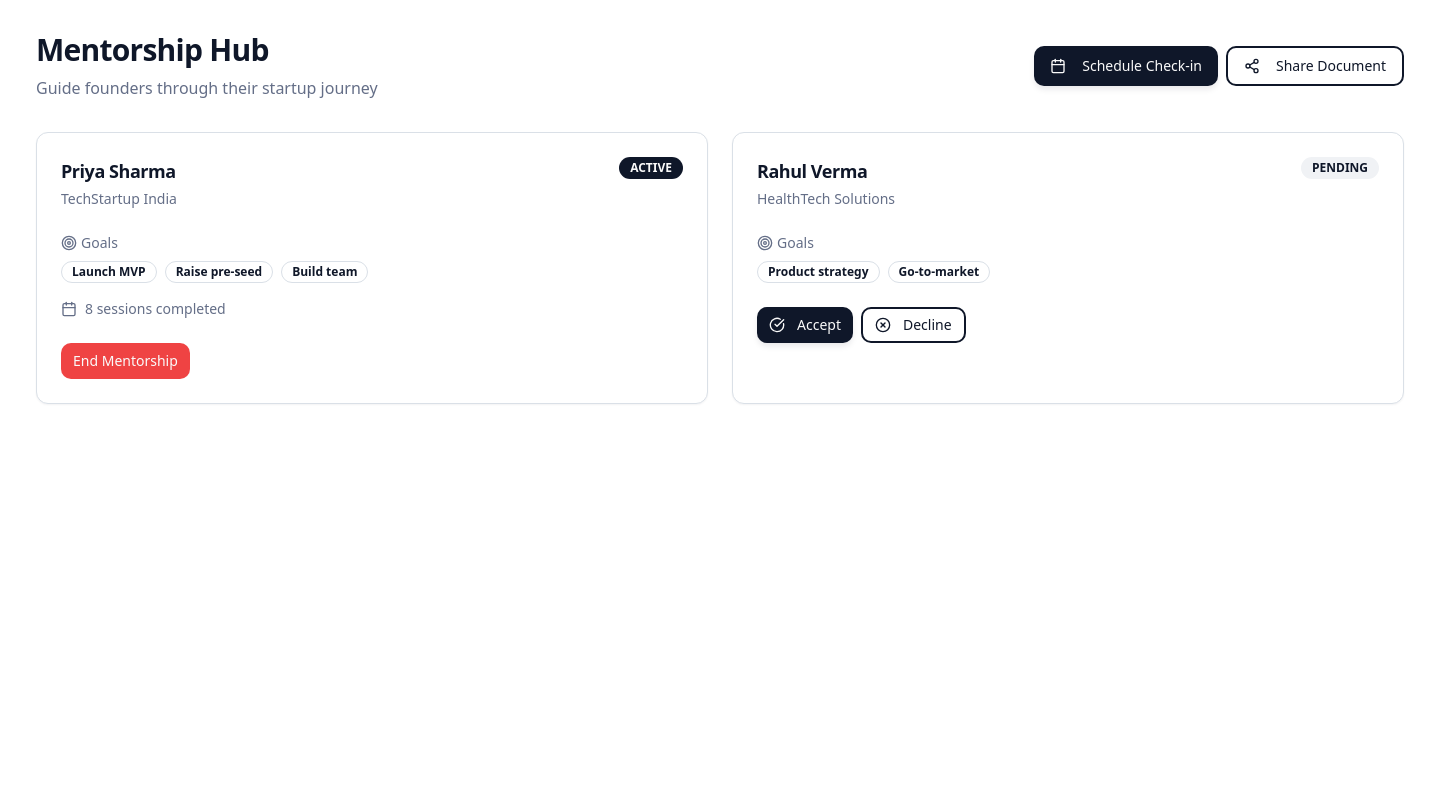
Test: US-OPERATOR-003: Mentor Startups › Schedule Check-in › should allow scheduling a new check-in
Expected: the text "Priya Sharma" is shown, [61, 159, 176, 183]
Click the button "Schedule Check-in". click: [1126, 66]
box: [1034, 46, 1218, 86]
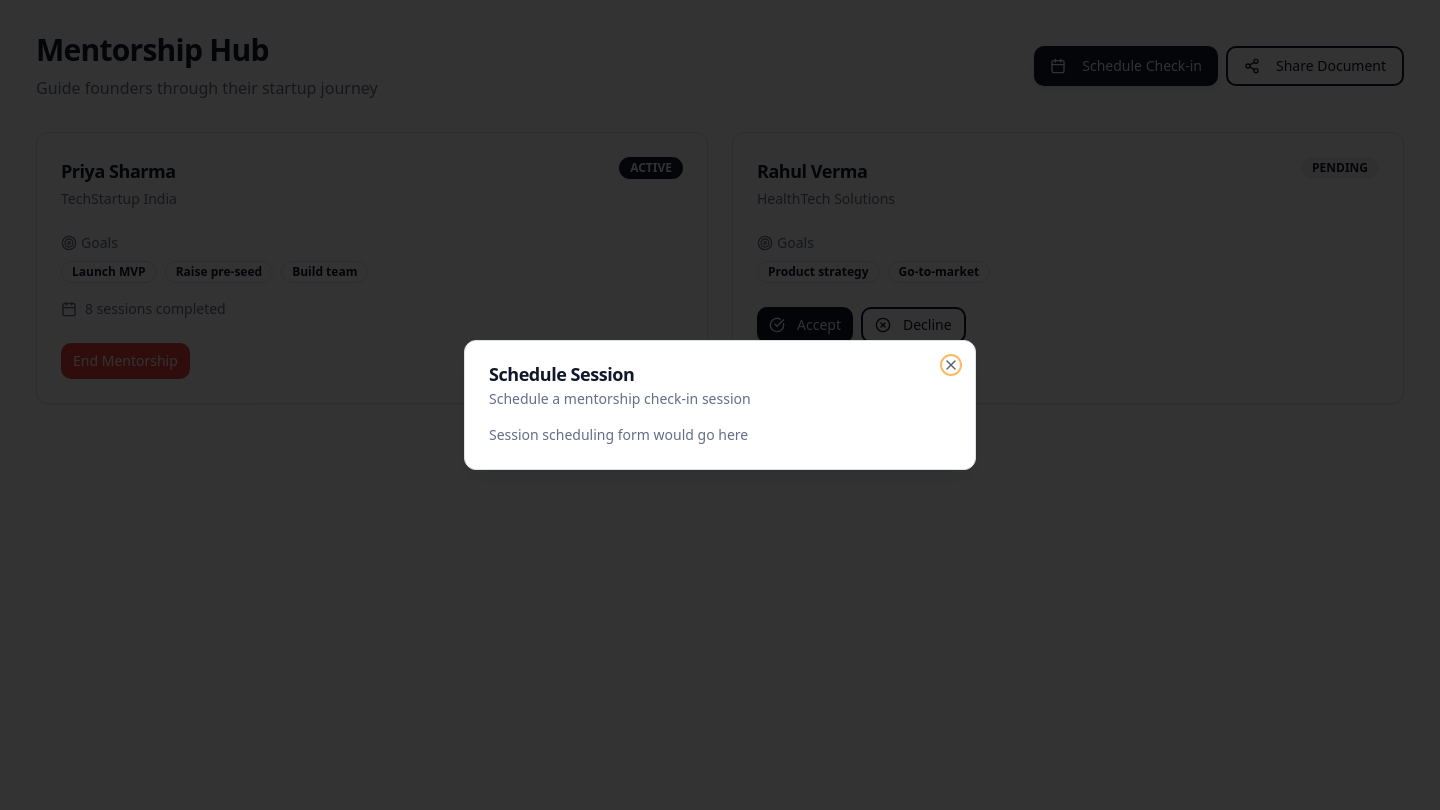
Expected: the text "Schedule a mentorship check-in session" is shown, [489, 389, 751, 408]
